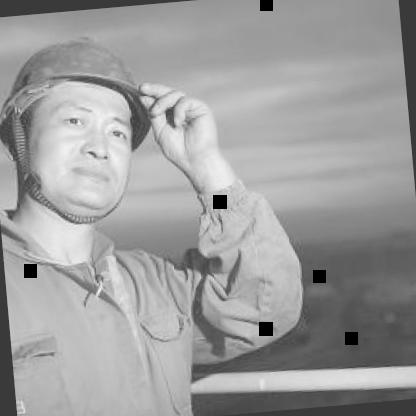helmet: (0, 15, 170, 238)
